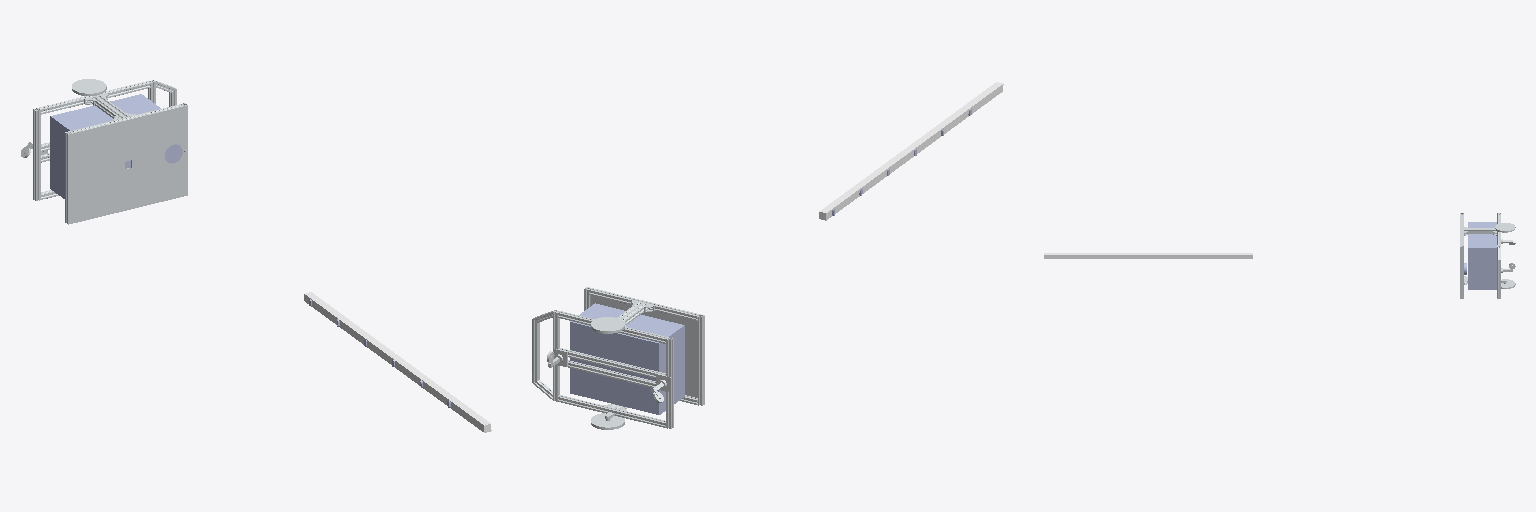
The robot description file, URDF, robot "GazeboV1":
<?xml version="1.0" encoding="utf-8"?>
<!-- This URDF was automatically created by SolidWorks to URDF Exporter! Originally created by [author] ([email redacted]) 
     Commit Version: 1.5.1-0-g916b5db  Build Version: 1.5.7152.31018
     For more information, please see http://wiki.ros.org/sw_urdf_exporter -->
<robot
  name="GazeboV1">
  <link
    name="Chassis">
    <inertial>
      <origin
        xyz="-0.034432 -0.049783 -0.0017009"
        rpy="0 0 0" />
      <mass
        value="4.6813" />
      <inertia
        ixx="0.13093"
        ixy="-0.010187"
        ixz="-1.0878E-07"
        iyy="0.19442"
        iyz="-6.3597E-06"
        izz="0.18221" />
    </inertial>
    <visual>
      <origin
        xyz="0 0 0"
        rpy="0 0 0" />
      <geometry>
        <mesh
          filename="package://GazeboV1/meshes/Chassis.STL" />
      </geometry>
      <material
        name="">
        <color
          rgba="0.89804 0.91765 0.92941 1" />
      </material>
    </visual>
    <collision>
      <origin
        xyz="0 0 0"
        rpy="0 0 0" />
      <geometry>
        <mesh
          filename="package://GazeboV1/meshes/Chassis.STL" />
      </geometry>
    </collision>
  </link>
  <link
    name="RightWheel">
    <inertial>
      <origin
        xyz="1.6653E-16 -2.0817E-17 0.0051"
        rpy="0 0 0" />
      <mass
        value="0.33861" />
      <inertia
        ixx="0.00034758"
        ixy="-7.2847E-20"
        ixz="9.6809E-18"
        iyy="0.00034758"
        iyz="4.2043E-19"
        izz="0.00068952" />
    </inertial>
    <visual>
      <origin
        xyz="0 0 0"
        rpy="0 0 0" />
      <geometry>
        <mesh
          filename="package://GazeboV1/meshes/RightWheel.STL" />
      </geometry>
      <material
        name="">
        <color
          rgba="0.89804 0.91765 0.92941 1" />
      </material>
    </visual>
    <collision>
      <origin
        xyz="0 0 0"
        rpy="0 0 0" />
      <geometry>
        <mesh
          filename="package://GazeboV1/meshes/RightWheel.STL" />
      </geometry>
    </collision>
  </link>
  <joint
    name="RightRevolute"
    type="continuous">
    <origin
      xyz="-0.0464879186474883 0.13117170540085 -0.191028392468994"
      rpy="3.14159265358979 0 1.5707963267949" />
    <parent
      link="Chassis" />
    <child
      link="RightWheel" />
    <axis
      xyz="0 0 1" />
    <dynamics
      damping="0"
      friction="0" />
  </joint>
  <link
    name="LeftWheel">
    <inertial>
      <origin
        xyz="-6.93889390390723E-17 -5.55111512312578E-17 -0.00510000000000457"
        rpy="0 0 0" />
      <mass
        value="0.338614058747035" />
      <inertia
        ixx="0.000347581051317554"
        ixy="0"
        ixz="5.18653076214745E-18"
        iyy="0.000347581051317554"
        iyz="2.0942724352016E-18"
        izz="0.000689518301963574" />
    </inertial>
    <visual>
      <origin
        xyz="0 0 0"
        rpy="0 0 0" />
      <geometry>
        <mesh
          filename="package://GazeboV1/meshes/LeftWheel.STL" />
      </geometry>
      <material
        name="">
        <color
          rgba="0.898039215686275 0.917647058823529 0.929411764705882 1" />
      </material>
    </visual>
    <collision>
      <origin
        xyz="0 0 0"
        rpy="0 0 0" />
      <geometry>
        <mesh
          filename="package://GazeboV1/meshes/LeftWheel.STL" />
      </geometry>
    </collision>
  </link>
  <joint
    name="LeftRevolute"
    type="continuous">
    <origin
      xyz="-0.0464879186474897 0.131171705400839 0.188167736746003"
      rpy="-3.14159265358976 0 0.415802035717092" />
    <parent
      link="Chassis" />
    <child
      link="LeftWheel" />
    <axis
      xyz="0 0 1" />
    <dynamics
      damping="0"
      friction="0" />
  </joint>
  <link
    name="FrontCastor">
    <inertial>
      <origin
        xyz="0.0030314 0.034563 -2.7756E-17"
        rpy="0 0 0" />
      <mass
        value="0.067153" />
      <inertia
        ixx="4.4926E-05"
        ixy="-6.705E-06"
        ixz="5.9566E-21"
        iyy="9.6191E-06"
        iyz="1.5989E-20"
        izz="4.9799E-05" />
    </inertial>
    <visual>
      <origin
        xyz="0 0 0"
        rpy="0 0 0" />
      <geometry>
        <mesh
          filename="package://GazeboV1/meshes/FrontCastor.STL" />
      </geometry>
      <material
        name="">
        <color
          rgba="0.89804 0.91765 0.92941 1" />
      </material>
    </visual>
    <collision>
      <origin
        xyz="0 0 0"
        rpy="0 0 0" />
      <geometry>
        <mesh
          filename="package://GazeboV1/meshes/FrontCastor.STL" />
      </geometry>
    </collision>
  </link>
  <joint
    name="FrontCastorRevolute"
    type="continuous">
    <origin
      xyz="0.17263668098028 0.106171705400847 -0.00173226325399095"
      rpy="3.14159265358979 -1.54598030035848 3.14159265358979" />
    <parent
      link="Chassis" />
    <child
      link="FrontCastor" />
    <axis
      xyz="0 1 0" />
    <dynamics
      damping="0"
      friction="0" />
  </joint>
  <link
    name="FrontCastorWheel">
    <inertial>
      <origin
        xyz="-1.38777878078145E-17 0 -6.38378239159465E-16"
        rpy="0 0 0" />
      <mass
        value="0.0317645176567402" />
      <inertia
        ixx="3.91504603938205E-06"
        ixy="4.2351647362715E-22"
        ixz="4.823176348906E-21"
        iyy="3.91504603938205E-06"
        iyz="-3.90529550879625E-21"
        izz="7.40108172021949E-06" />
    </inertial>
    <visual>
      <origin
        xyz="0 0 0"
        rpy="0 0 0" />
      <geometry>
        <mesh
          filename="package://GazeboV1/meshes/FrontCastorWheel.STL" />
      </geometry>
      <material
        name="">
        <color
          rgba="0.898039215686275 0.917647058823529 0.929411764705882 1" />
      </material>
    </visual>
    <collision>
      <origin
        xyz="0 0 0"
        rpy="0 0 0" />
      <geometry>
        <mesh
          filename="package://GazeboV1/meshes/FrontCastorWheel.STL" />
      </geometry>
    </collision>
  </link>
  <joint
    name="FrontCastorWheelRevolute"
    type="continuous">
    <origin
      xyz="0.0320000000000025 0.0674999999999988 0"
      rpy="0 0 -2.72865613261179" />
    <parent
      link="FrontCastor" />
    <child
      link="FrontCastorWheel" />
    <axis
      xyz="0 0 1" />
    <dynamics
      damping="0"
      friction="0" />
  </joint>
  <link
    name="RearCastor">
    <inertial>
      <origin
        xyz="0.00303144893180135 0.0345627416364439 2.77555756156289E-17"
        rpy="0 0 0" />
      <mass
        value="0.0671525104446696" />
      <inertia
        ixx="4.49259698602978E-05"
        ixy="-6.70501812215977E-06"
        ixz="2.83273439653558E-21"
        iyy="9.61913985679222E-06"
        iyz="-6.97283315371065E-21"
        izz="4.97992078191438E-05" />
    </inertial>
    <visual>
      <origin
        xyz="0 0 0"
        rpy="0 0 0" />
      <geometry>
        <mesh
          filename="package://GazeboV1/meshes/RearCastor.STL" />
      </geometry>
      <material
        name="">
        <color
          rgba="0.898039215686275 0.917647058823529 0.929411764705882 1" />
      </material>
    </visual>
    <collision>
      <origin
        xyz="0 0 0"
        rpy="0 0 0" />
      <geometry>
        <mesh
          filename="package://GazeboV1/meshes/RearCastor.STL" />
      </geometry>
    </collision>
  </link>
  <joint
    name="RearCastorRevolute"
    type="continuous">
    <origin
      xyz="-0.265612518275258 0.106171705400852 -0.00173226325399275"
      rpy="3.14159265358978 0.863215800991521 -3.14159265358979" />
    <parent
      link="Chassis" />
    <child
      link="RearCastor" />
    <axis
      xyz="0 1 0" />
    <dynamics
      damping="0"
      friction="0" />
  </joint>
  <link
    name="RearCastorWheel">
    <inertial>
      <origin
        xyz="0 -2.7756E-17 -1.3878E-16"
        rpy="0 0 0" />
      <mass
        value="0.031765" />
      <inertia
        ixx="3.915E-06"
        ixy="-1.0588E-22"
        ixz="2.54E-21"
        iyy="3.915E-06"
        iyz="7.4698E-22"
        izz="7.4011E-06" />
    </inertial>
    <visual>
      <origin
        xyz="0 0 0"
        rpy="0 0 0" />
      <geometry>
        <mesh
          filename="package://GazeboV1/meshes/RearCastorWheel.STL" />
      </geometry>
      <material
        name="">
        <color
          rgba="0.89804 0.91765 0.92941 1" />
      </material>
    </visual>
    <collision>
      <origin
        xyz="0 0 0"
        rpy="0 0 0" />
      <geometry>
        <mesh
          filename="package://GazeboV1/meshes/RearCastorWheel.STL" />
      </geometry>
    </collision>
  </link>
  <joint
    name="RearCastorWheelRevolute"
    type="continuous">
    <origin
      xyz="0.0319999999999975 0.0675000000000008 0"
      rpy="0 0 1.29966071100025" />
    <parent
      link="RearCastor" />
    <child
      link="RearCastorWheel" />
    <axis
      xyz="0 0 1" />
    <dynamics
      damping="0"
      friction="0" />
  </joint>
  <link
    name="Battery">
    <inertial>
      <origin
        xyz="6.8695E-16 0.0925 -7.5677E-17"
        rpy="0 0 0" />
      <mass
        value="17.512" />
      <inertia
        ixx="0.17268"
        ixy="1.0974E-15"
        ixz="6.6121E-16"
        iyy="0.33347"
        iyz="3.2497E-17"
        izz="0.26068" />
    </inertial>
    <visual>
      <origin
        xyz="0 0 0"
        rpy="0 0 0" />
      <geometry>
        <mesh
          filename="package://GazeboV1/meshes/Battery.STL" />
      </geometry>
      <material
        name="">
        <color
          rgba="0.79216 0.81961 0.93333 1" />
      </material>
    </visual>
    <collision>
      <origin
        xyz="0 0 0"
        rpy="0 0 0" />
      <geometry>
        <mesh
          filename="package://GazeboV1/meshes/Battery.STL" />
      </geometry>
    </collision>
  </link>
  <joint
    name="Fixed_Chassis_Battery"
    type="fixed">
    <origin
      xyz="-0.0464879186474911 -0.102828294599153 -0.00143226325399549"
      rpy="0 0 0" />
    <parent
      link="Chassis" />
    <child
      link="Battery" />
    <axis
      xyz="0 0 0" />
  </joint>
  <link
    name="LiDAR">
    <inertial>
      <origin
        xyz="0 0.0204 2.6021E-18"
        rpy="0 0 0" />
      <mass
        value="0.18025" />
      <inertia
        ixx="8.8373E-05"
        ixy="-2.6647E-37"
        ixz="-1.7334E-53"
        iyy="0.00012674"
        iyz="2.4957E-21"
        izz="8.8373E-05" />
    </inertial>
    <visual>
      <origin
        xyz="0 0 0"
        rpy="0 0 0" />
      <geometry>
        <mesh
          filename="package://GazeboV1/meshes/LiDAR.STL" />
      </geometry>
      <material
        name="">
        <color
          rgba="0.79216 0.81961 0.93333 1" />
      </material>
    </visual>
    <collision>
      <origin
        xyz="0 0 0"
        rpy="0 0 0" />
      <geometry>
        <mesh
          filename="package://GazeboV1/meshes/LiDAR.STL" />
      </geometry>
    </collision>
  </link>
  <joint
    name="Fixed_Battery_LiDAR"
    type="fixed">
    <origin
      xyz="0.143512081352509 -0.109028294599157 -0.00173226325399941"
      rpy="3.14159265358979 0 0" />
    <parent
      link="Chassis" />
    <child
      link="LiDAR" />
    <axis
      xyz="0 0 0" />
  </joint>
  <link
    name="WoodRod">
    <inertial>
      <origin
        xyz="1.0842E-18 -5.1576E-06 0.65004"
        rpy="0 0 0" />
      <mass
        value="0.70171" />
      <inertia
        ixx="0.098881"
        ixy="-1.9823E-21"
        ixz="-8.8385E-20"
        iyy="0.098881"
        iyz="-3.6206E-07"
        izz="0.00010523" />
    </inertial>
    <visual>
      <origin
        xyz="0 0 0"
        rpy="0 0 0" />
      <geometry>
        <mesh
          filename="package://GazeboV1/meshes/WoodRod.STL" />
      </geometry>
      <material
        name="">
        <color
          rgba="1 1 1 1" />
      </material>
    </visual>
    <collision>
      <origin
        xyz="0 0 0"
        rpy="0 0 0" />
      <geometry>
        <mesh
          filename="package://GazeboV1/meshes/WoodRod.STL" />
      </geometry>
    </collision>
  </link>
  <joint
    name="Fixed_Chassis_WoodRod"
    type="fixed">
    <origin
      xyz="-0.046487918647492 -1.44582829459916 -0.00173226325399934"
      rpy="1.5707963267949 4.7 0" />
    <parent
      link="Chassis" />
    <child
      link="WoodRod" />
    <axis
      xyz="0 0 0" />
  </joint>
  <link
    name="TBS1">
    <inertial>
      <origin
        xyz="-6.5052E-19 0 0.00275"
        rpy="0 0 0" />
      <mass
        value="0.0017387" />
      <inertia
        ixx="2.8124E-08"
        ixy="1.4974E-24"
        ixz="-6.7324E-24"
        iyy="9.5796E-08"
        iyz="-3.2191E-25"
        izz="1.1515E-07" />
    </inertial>
    <visual>
      <origin
        xyz="0 0 0"
        rpy="0 0 0" />
      <geometry>
        <mesh
          filename="package://GazeboV1/meshes/TBS1.STL" />
      </geometry>
      <material
        name="">
        <color
          rgba="0.79216 0.81961 0.93333 1" />
      </material>
    </visual>
    <collision>
      <origin
        xyz="0 0 0"
        rpy="0 0 0" />
      <geometry>
        <mesh
          filename="package://GazeboV1/meshes/TBS1.STL" />
      </geometry>
    </collision>
  </link>
  <joint
    name="Fixed_WoodRod_TBS1"
    type="fixed">
    <origin
      xyz="0 0.0205 1.05"
      rpy="1.5707963267949 0 0" />
    <parent
      link="WoodRod" />
    <child
      link="TBS1" />
    <axis
      xyz="0 0 0" />
  </joint>
  <link
    name="TBS2">
    <inertial>
      <origin
        xyz="-7.37257477290143E-18 -1.11022302462516E-16 0.00275"
        rpy="0 0 0" />
      <mass
        value="0.00173867551882196" />
      <inertia
        ixx="2.81242393072003E-08"
        ixy="7.59774513323698E-23"
        ixz="-4.65876414378988E-24"
        iyy="9.57958648484739E-08"
        iyz="-2.83810977432217E-25"
        izz="1.1515428174828E-07" />
    </inertial>
    <visual>
      <origin
        xyz="0 0 0"
        rpy="0 0 0" />
      <geometry>
        <mesh
          filename="package://GazeboV1/meshes/TBS2.STL" />
      </geometry>
      <material
        name="">
        <color
          rgba="0.792156862745098 0.819607843137255 0.933333333333333 1" />
      </material>
    </visual>
    <collision>
      <origin
        xyz="0 0 0"
        rpy="0 0 0" />
      <geometry>
        <mesh
          filename="package://GazeboV1/meshes/TBS2.STL" />
      </geometry>
    </collision>
  </link>
  <joint
    name="Fixed_WoodRod_TBS2"
    type="fixed">
    <origin
      xyz="0 0.0205 0.85"
      rpy="1.5707963267949 0 0" />
    <parent
      link="WoodRod" />
    <child
      link="TBS2" />
    <axis
      xyz="0 0 0" />
  </joint>
  <link
    name="TBS3">
    <inertial>
      <origin
        xyz="-4.3368E-19 0 0.00275"
        rpy="0 0 0" />
      <mass
        value="0.0017387" />
      <inertia
        ixx="2.8124E-08"
        ixy="1.4899E-22"
        ixz="-4.4224E-24"
        iyy="9.5796E-08"
        iyz="-6.4777E-25"
        izz="1.1515E-07" />
    </inertial>
    <visual>
      <origin
        xyz="0 0 0"
        rpy="0 0 0" />
      <geometry>
        <mesh
          filename="package://GazeboV1/meshes/TBS3.STL" />
      </geometry>
      <material
        name="">
        <color
          rgba="0.79216 0.81961 0.93333 1" />
      </material>
    </visual>
    <collision>
      <origin
        xyz="0 0 0"
        rpy="0 0 0" />
      <geometry>
        <mesh
          filename="package://GazeboV1/meshes/TBS3.STL" />
      </geometry>
    </collision>
  </link>
  <joint
    name="Fixed_WoodRod_TBS3"
    type="fixed">
    <origin
      xyz="0 0.0205 0.65"
      rpy="1.5707963267949 0 0" />
    <parent
      link="WoodRod" />
    <child
      link="TBS3" />
    <axis
      xyz="0 0 0" />
  </joint>
  <link
    name="TBS4">
    <inertial>
      <origin
        xyz="-6.72205346941013E-18 0 0.00275"
        rpy="0 0 0" />
      <mass
        value="0.00173867551882196" />
      <inertia
        ixx="2.81242393072003E-08"
        ixy="-8.25997223265049E-23"
        ixz="2.63973259082157E-24"
        iyy="9.57958648484738E-08"
        iyz="3.5053026174496E-25"
        izz="1.1515428174828E-07" />
    </inertial>
    <visual>
      <origin
        xyz="0 0 0"
        rpy="0 0 0" />
      <geometry>
        <mesh
          filename="package://GazeboV1/meshes/TBS4.STL" />
      </geometry>
      <material
        name="">
        <color
          rgba="0.792156862745098 0.819607843137255 0.933333333333333 1" />
      </material>
    </visual>
    <collision>
      <origin
        xyz="0 0 0"
        rpy="0 0 0" />
      <geometry>
        <mesh
          filename="package://GazeboV1/meshes/TBS4.STL" />
      </geometry>
    </collision>
  </link>
  <joint
    name="Fixed_WoodRod_TBS4"
    type="fixed">
    <origin
      xyz="0 0.015 0.45"
      rpy="-1.5707963267949 0 0" />
    <parent
      link="WoodRod" />
    <child
      link="TBS4" />
    <axis
      xyz="0 0 0" />
  </joint>
  <link
    name="TBS5">
    <inertial>
      <origin
        xyz="-1.47451495458029E-17 0 0.00275"
        rpy="0 0 0" />
      <mass
        value="0.00173867551882196" />
      <inertia
        ixx="2.81242393072001E-08"
        ixy="1.73224533978417E-22"
        ixz="1.43853779945553E-24"
        iyy="9.57958648484739E-08"
        iyz="4.26724520980307E-25"
        izz="1.1515428174828E-07" />
    </inertial>
    <visual>
      <origin
        xyz="0 0 0"
        rpy="0 0 0" />
      <geometry>
        <mesh
          filename="package://GazeboV1/meshes/TBS5.STL" />
      </geometry>
      <material
        name="">
        <color
          rgba="0.792156862745098 0.819607843137255 0.933333333333333 1" />
      </material>
    </visual>
    <collision>
      <origin
        xyz="0 0 0"
        rpy="0 0 0" />
      <geometry>
        <mesh
          filename="package://GazeboV1/meshes/TBS5.STL" />
      </geometry>
    </collision>
  </link>
  <joint
    name="Fixed_WoodRod_TBS5"
    type="fixed">
    <origin
      xyz="0 0.015 0.25"
      rpy="-1.5708 0 0" />
    <parent
      link="WoodRod" />
    <child
      link="TBS5" />
    <axis
      xyz="0 0 0" />
  </joint>
  <link
    name="TBS6">
    <inertial>
      <origin
        xyz="1.0842E-18 0 0.00275"
        rpy="0 0 0" />
      <mass
        value="0.0017387" />
      <inertia
        ixx="2.8124E-08"
        ixy="9.2938E-24"
        ixz="2.7747E-24"
        iyy="9.5796E-08"
        iyz="7.1449E-25"
        izz="1.1515E-07" />
    </inertial>
    <visual>
      <origin
        xyz="0 0 0"
        rpy="0 0 0" />
      <geometry>
        <mesh
          filename="package://GazeboV1/meshes/TBS6.STL" />
      </geometry>
      <material
        name="">
        <color
          rgba="0.79216 0.81961 0.93333 1" />
      </material>
    </visual>
    <collision>
      <origin
        xyz="0 0 0"
        rpy="0 0 0" />
      <geometry>
        <mesh
          filename="package://GazeboV1/meshes/TBS6.STL" />
      </geometry>
    </collision>
  </link>
  <joint
    name="Fixed_WoodRod_TBS6"
    type="fixed">
    <origin
      xyz="0 0.015 0.05"
      rpy="-1.5707963267949 0 0" />
    <parent
      link="WoodRod" />
    <child
      link="TBS6" />
    <axis
      xyz="0 0 0" />
  </joint>
  <link
    name="Camera">
    <inertial>
      <origin
        xyz="-2.7756E-17 0.0025 0"
        rpy="0 0 0" />
      <mass
        value="0.000125" />
      <inertia
        ixx="5.2083E-10"
        ixy="4.0387E-26"
        ixz="-6.8733E-26"
        iyy="5.2083E-10"
        iyz="1.8522E-26"
        izz="5.2083E-10" />
    </inertial>
    <visual>
      <origin
        xyz="0 0 0"
        rpy="0 0 0" />
      <geometry>
        <mesh
          filename="package://GazeboV1/meshes/Camera.STL" />
      </geometry>
      <material
        name="">
        <color
          rgba="0.79216 0.81961 0.93333 1" />
      </material>
    </visual>
    <collision>
      <origin
        xyz="0 0 0"
        rpy="0 0 0" />
      <geometry>
        <mesh
          filename="package://GazeboV1/meshes/Camera.STL" />
      </geometry>
    </collision>
  </link>
  <joint
    name="Fixed_Chassis_Camera"
    type="fixed">
    <origin
      xyz="0.190512081352507 -0.152328294599157 -0.00423226325400071"
      rpy="1.5707963267949 0 3.14159265358979" />
    <parent
      link="Chassis" />
    <child
      link="Camera" />
    <axis
      xyz="0 0 0" />
  </joint>
</robot>

--- Render facts (derived) ---
3 views of the same robot in one strip: view 1: azimuth 30°, elevation 25°; view 2: azimuth 150°, elevation 25°; view 3: azimuth 270°, elevation 25° (orthographic).
Robot: GazeboV1 — 17 links, 16 joints (6 continuous, 10 fixed); root link Chassis; default pose: all joints at 0.
Links seen in each view (by area): view 1: Chassis, Battery, WoodRod; view 2: Chassis, Battery, WoodRod; view 3: Battery, WoodRod, Chassis.
Boxes of the visible links, x1,y1,x2,y2 form: Chassis: [33, 80, 187, 224]; Battery: [50, 94, 160, 198]; WoodRod: [304, 292, 491, 432]; Chassis: [532, 287, 704, 428]; Battery: [570, 303, 684, 414]; WoodRod: [819, 82, 1003, 220]; Battery: [1468, 222, 1496, 289]; WoodRod: [1044, 253, 1252, 258]; Chassis: [1460, 213, 1506, 298].
Bounding box of the posed robot: 0.5936 × 2.94 × 0.3996 m (x, y, z).
Meshes: 17 distinct files referenced, 17 mesh visuals loaded (17 binary STL).